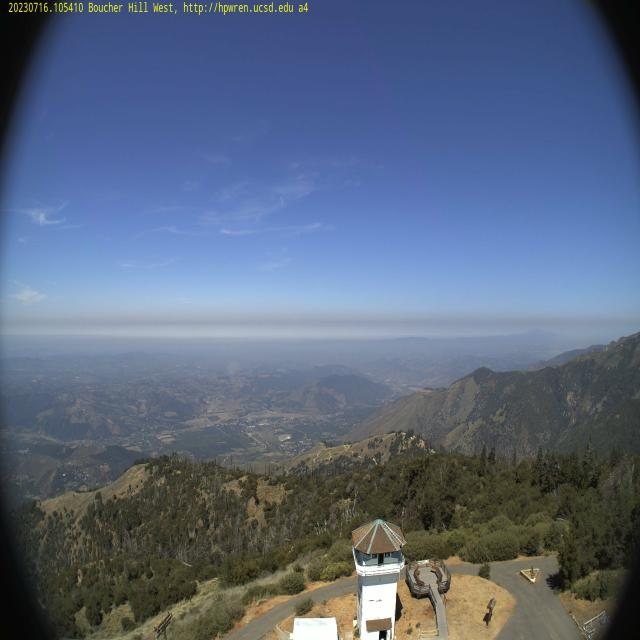smoke: (222, 356, 239, 378)
